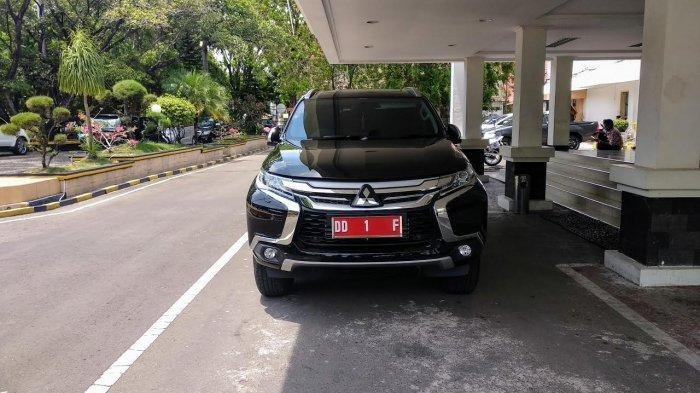plat nomor: (331, 216, 404, 237)
